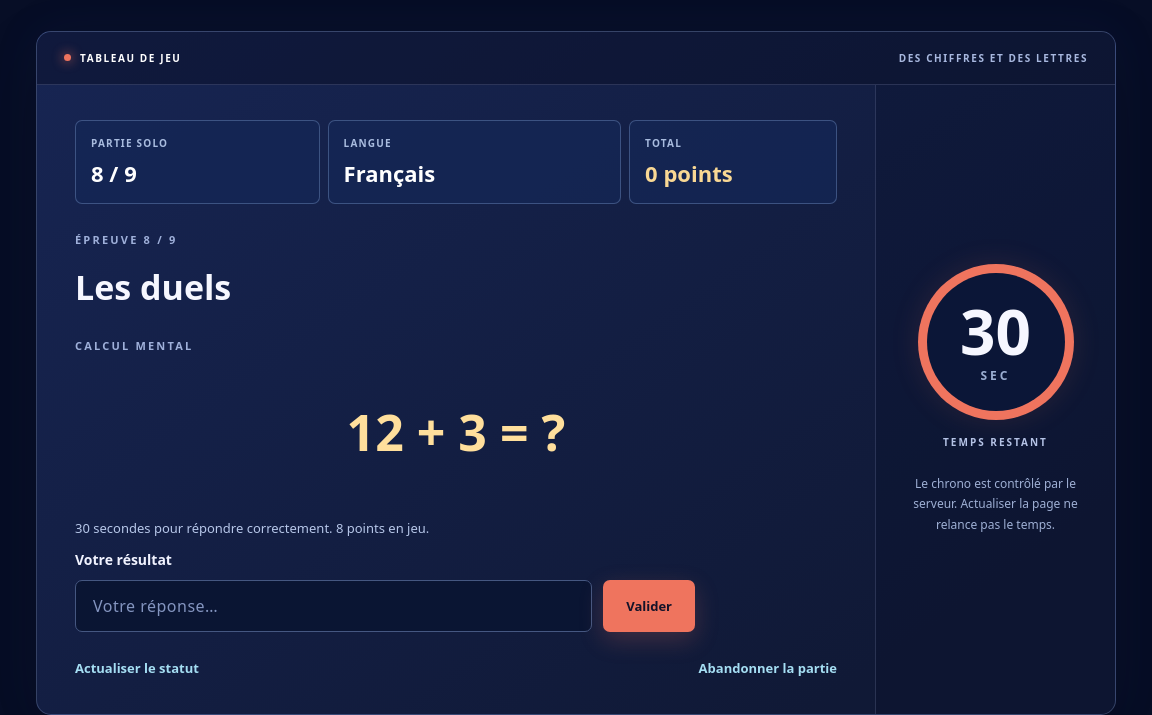
Test: recovered mental duel contributes only server-scored points
(page scrolled)
Expected: the text "12 + 3 = ?" is shown, [347,398,566,466]
Type "15" into the field labelled "Votre résultat".
click(334, 606); type("15")  # box [75,580,592,632]
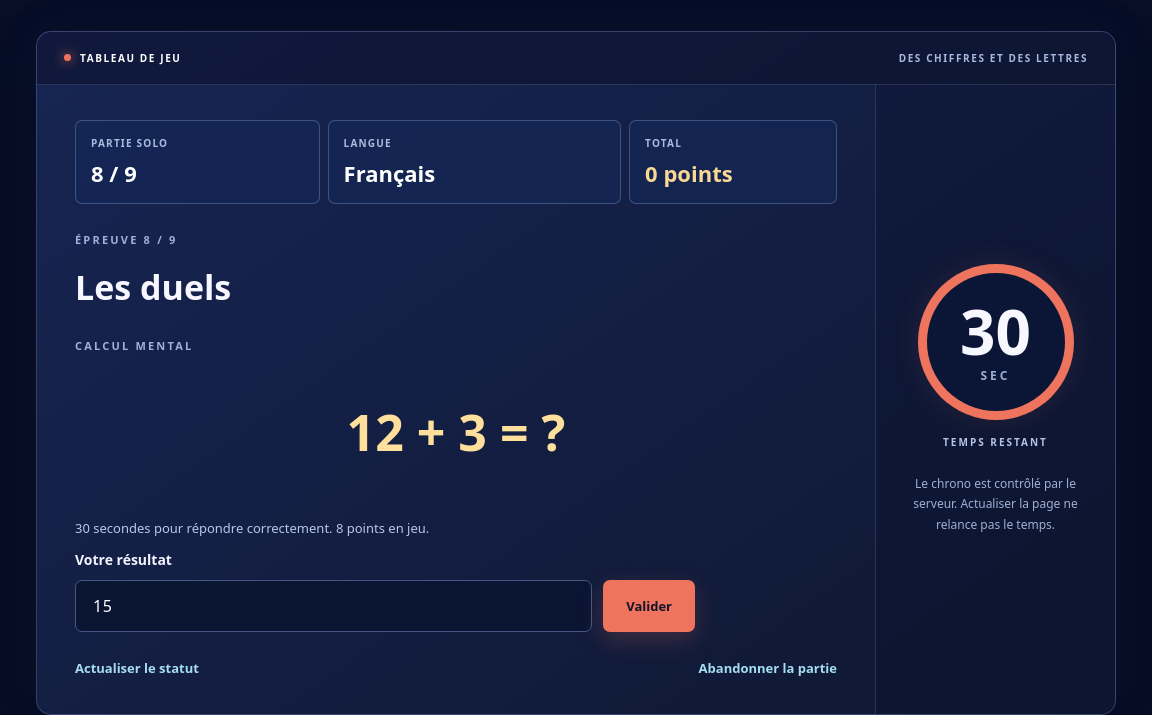
Click the button "Valider".
click(649, 606)  # box [603,580,695,632]
(page scrolled)
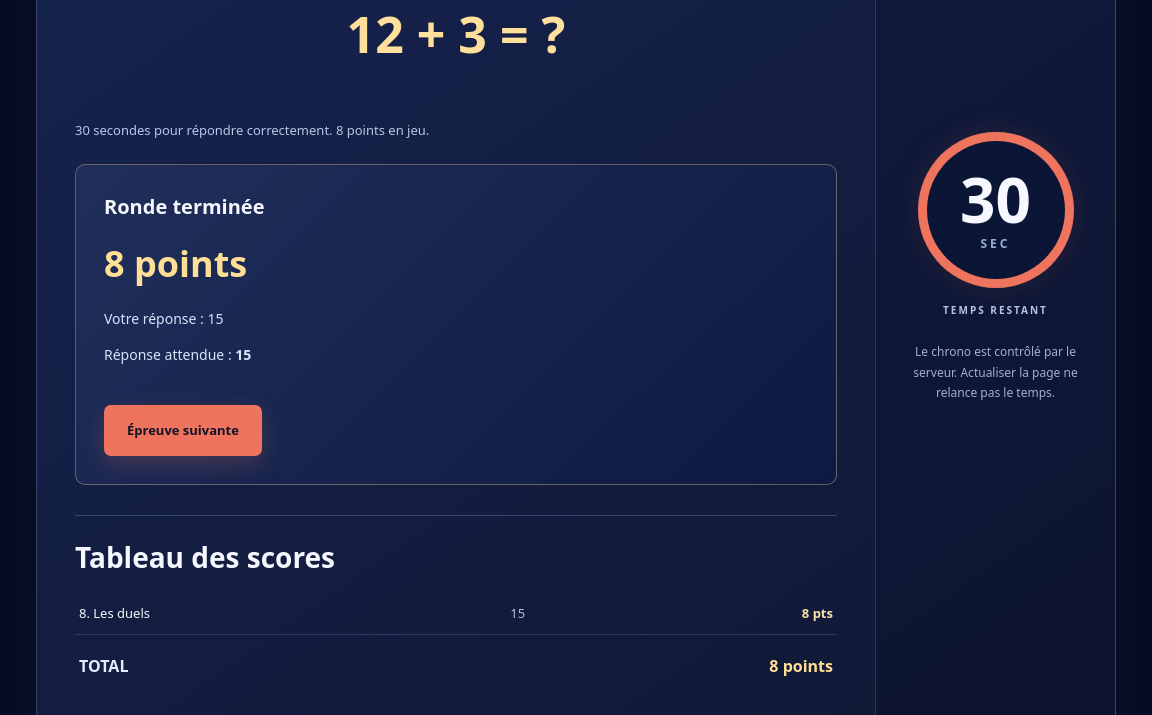
Now the heading "Ronde terminée" is shown, box [104,193,264,220]
Now the text "Réponse attendue : 15" is shown, box [104,345,251,364]
